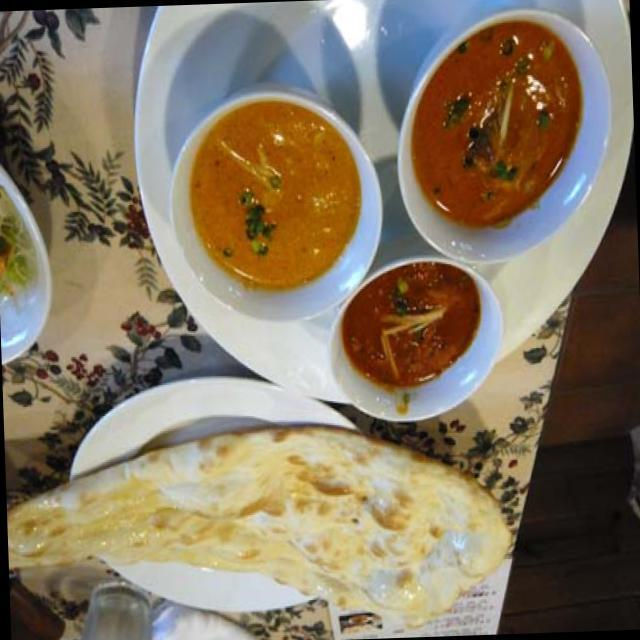Beef Curry: (428, 56, 572, 225)
